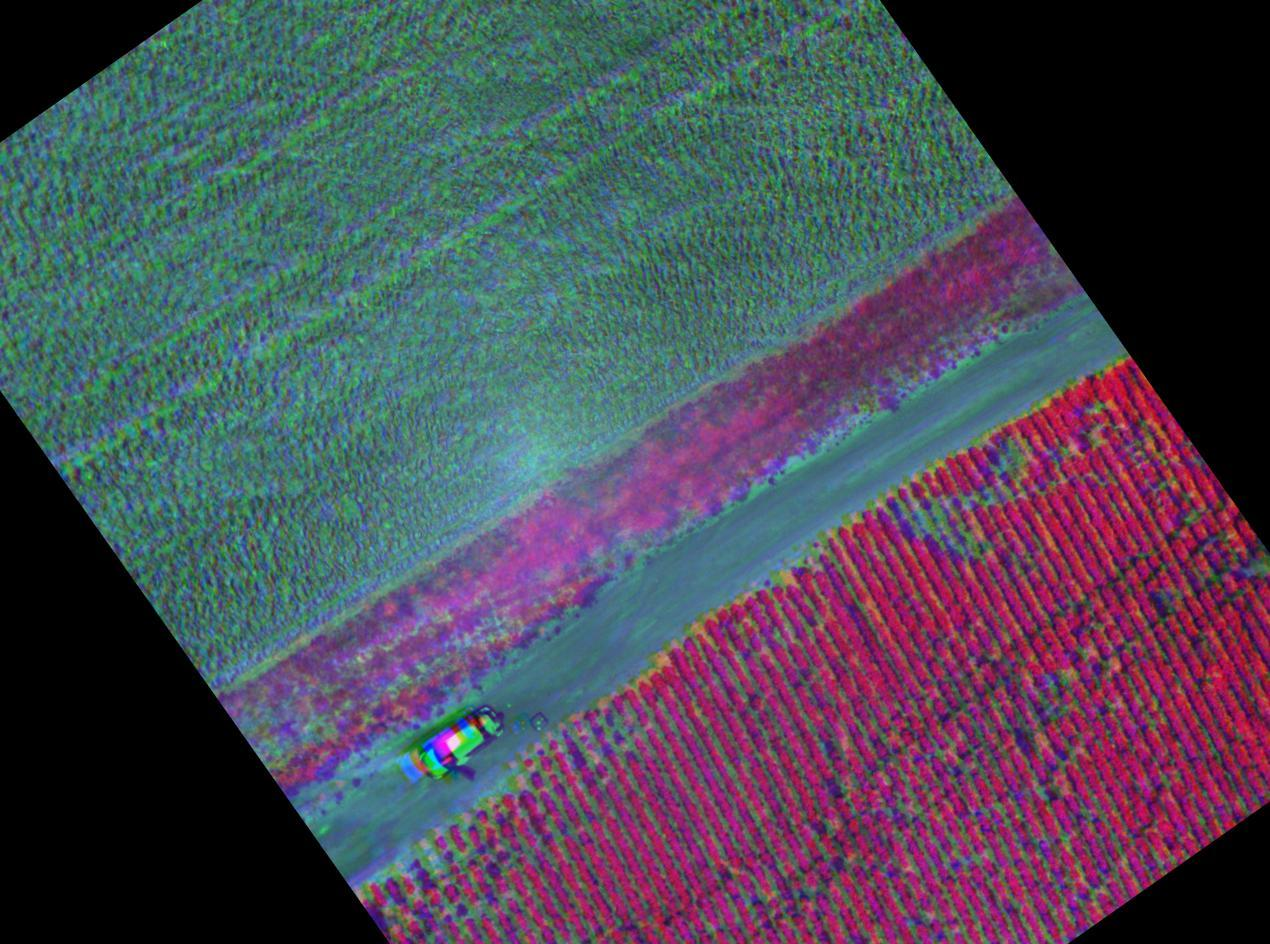dc: (393, 851, 515, 915), (1002, 679, 1089, 745), (533, 731, 620, 796), (895, 496, 988, 556), (991, 443, 1055, 492)
